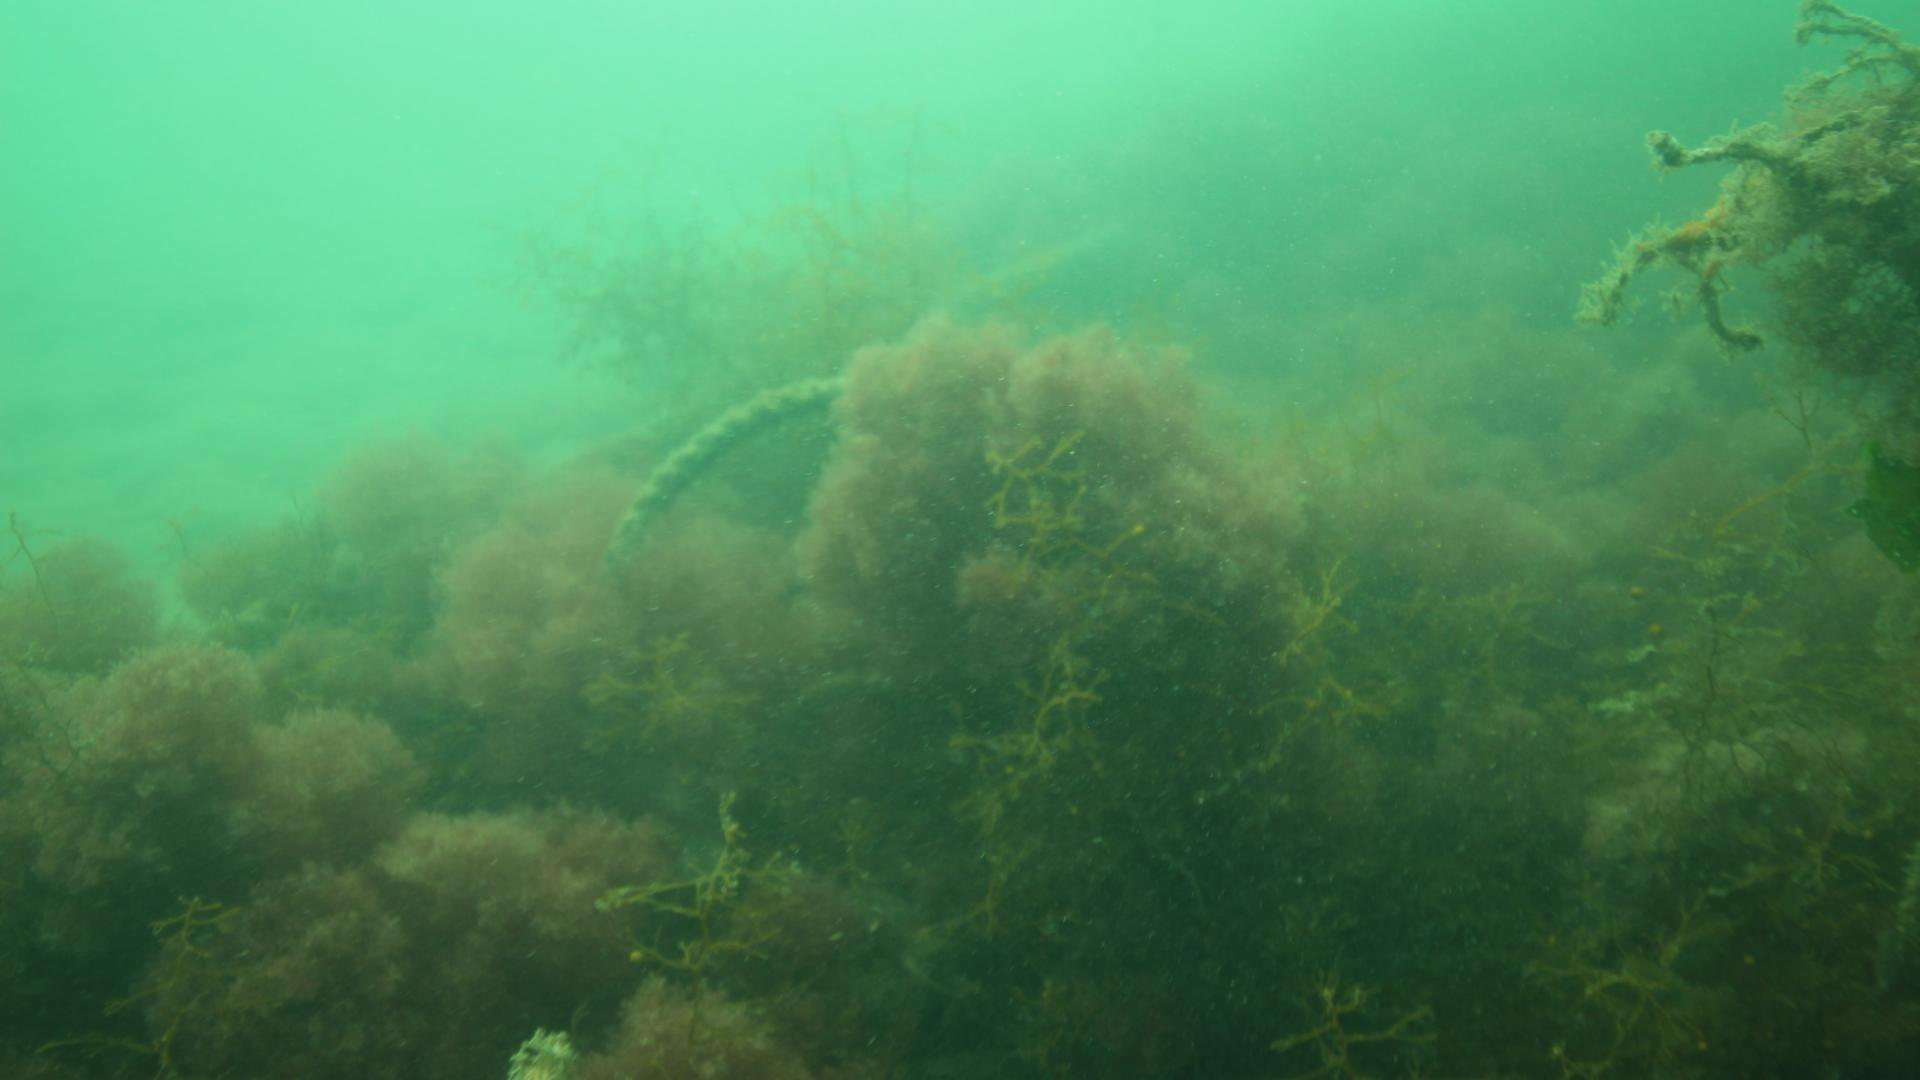rope: (605, 376, 837, 564)
